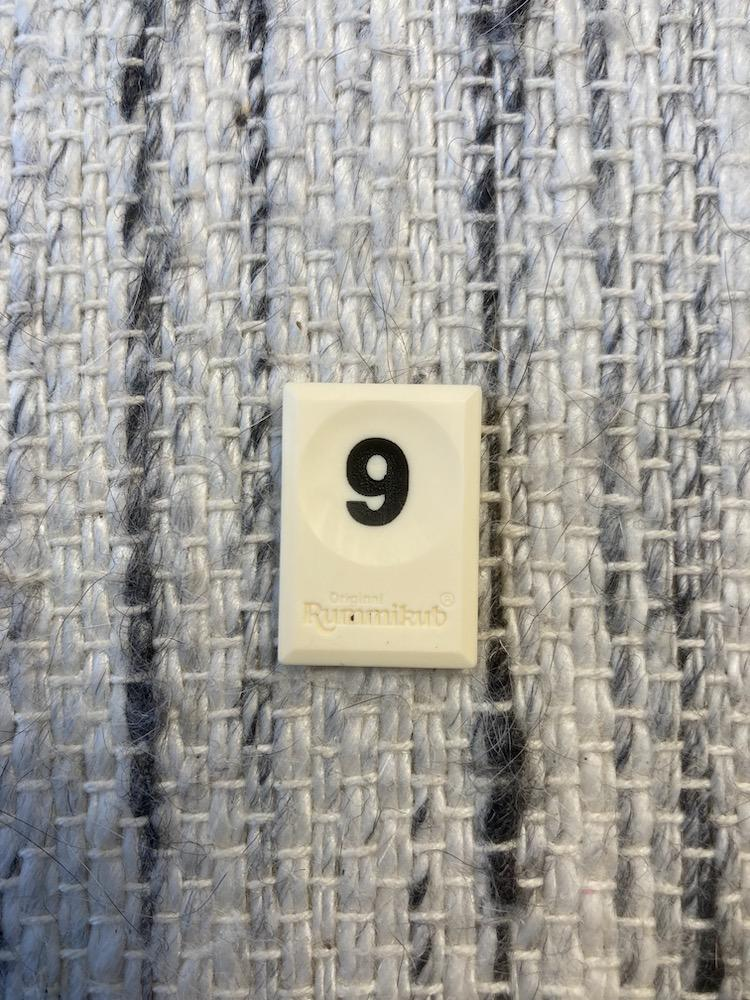black_9: (277, 385, 480, 668)
